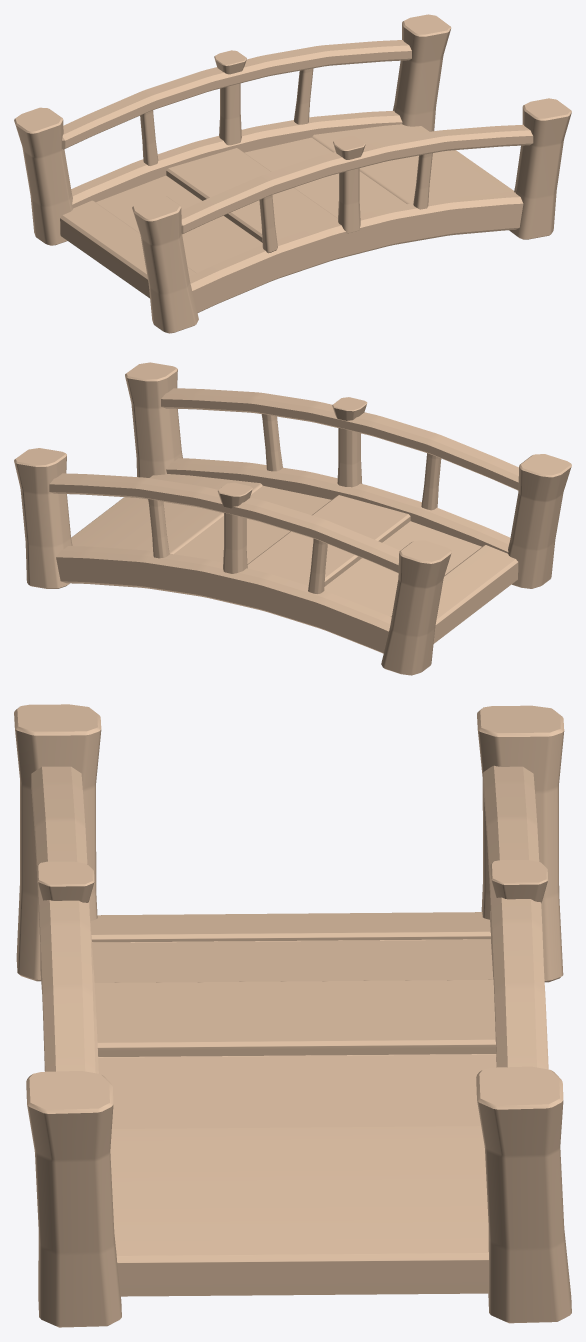
The model's file is bridge.fbx.
3 views of the same model, one above another, from view 1: azimuth 30°, elevation 25°; view 2: azimuth 150°, elevation 25°; view 3: azimuth 270°, elevation 25° (orthographic). The views are drawn at different scales.
Parts seen in each view (by area): view 1: bridge1; view 2: bridge1; view 3: bridge1.
Part boxes in pixels (x1,y1,x2,y2): bridge1: [14, 14, 571, 333]; bridge1: [14, 362, 571, 675]; bridge1: [14, 704, 571, 1327].
Size of the model in its own units: 540 by 163 by 311.
